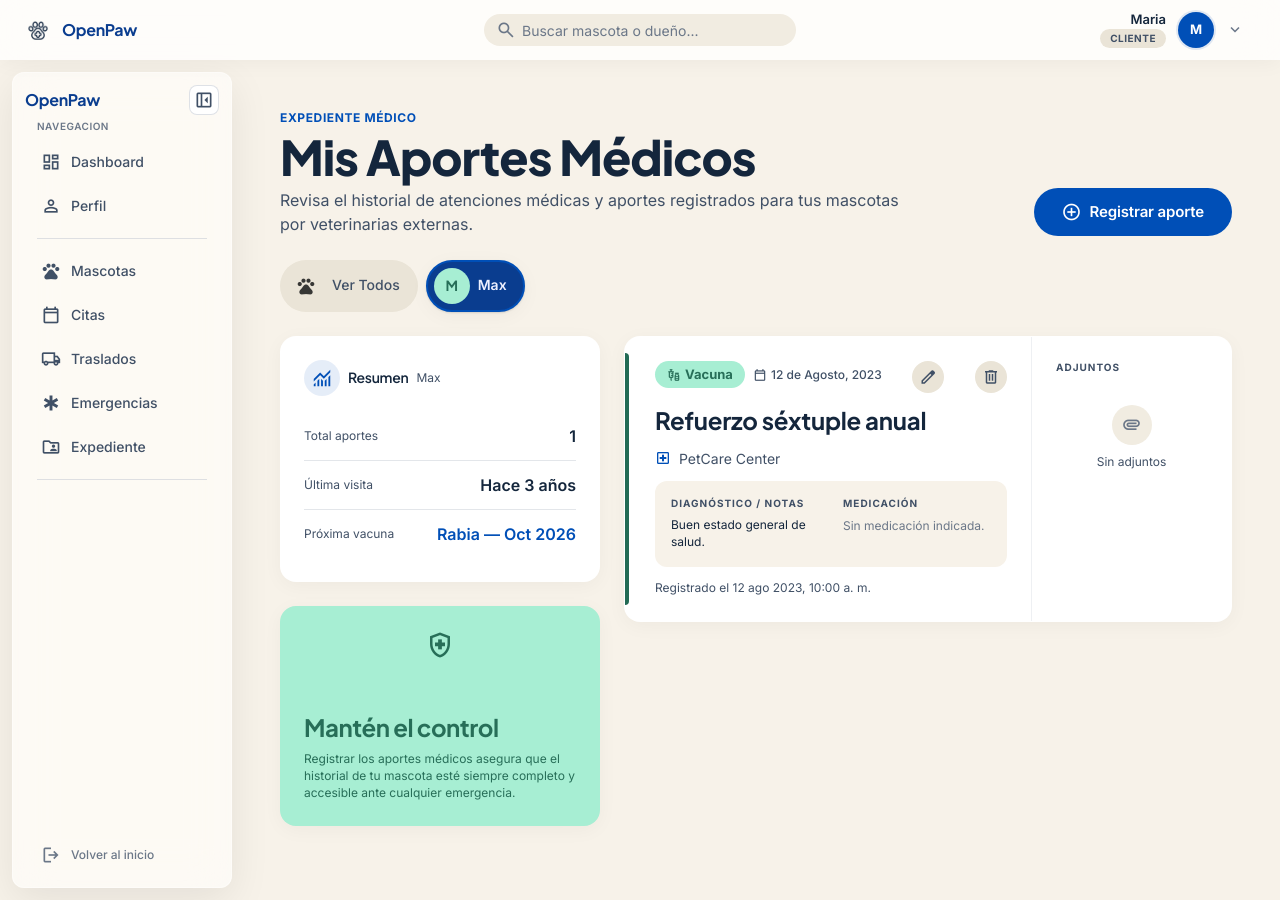
Scenario: AportesPage - rediseño Sprint 2 (T36) › editar: PUT 400 muestra el mensaje del servidor dentro del modal sin cerrarlo
Click the button named "Editar aporte de PetCare Center" at (928, 377), box [912, 361, 944, 393]
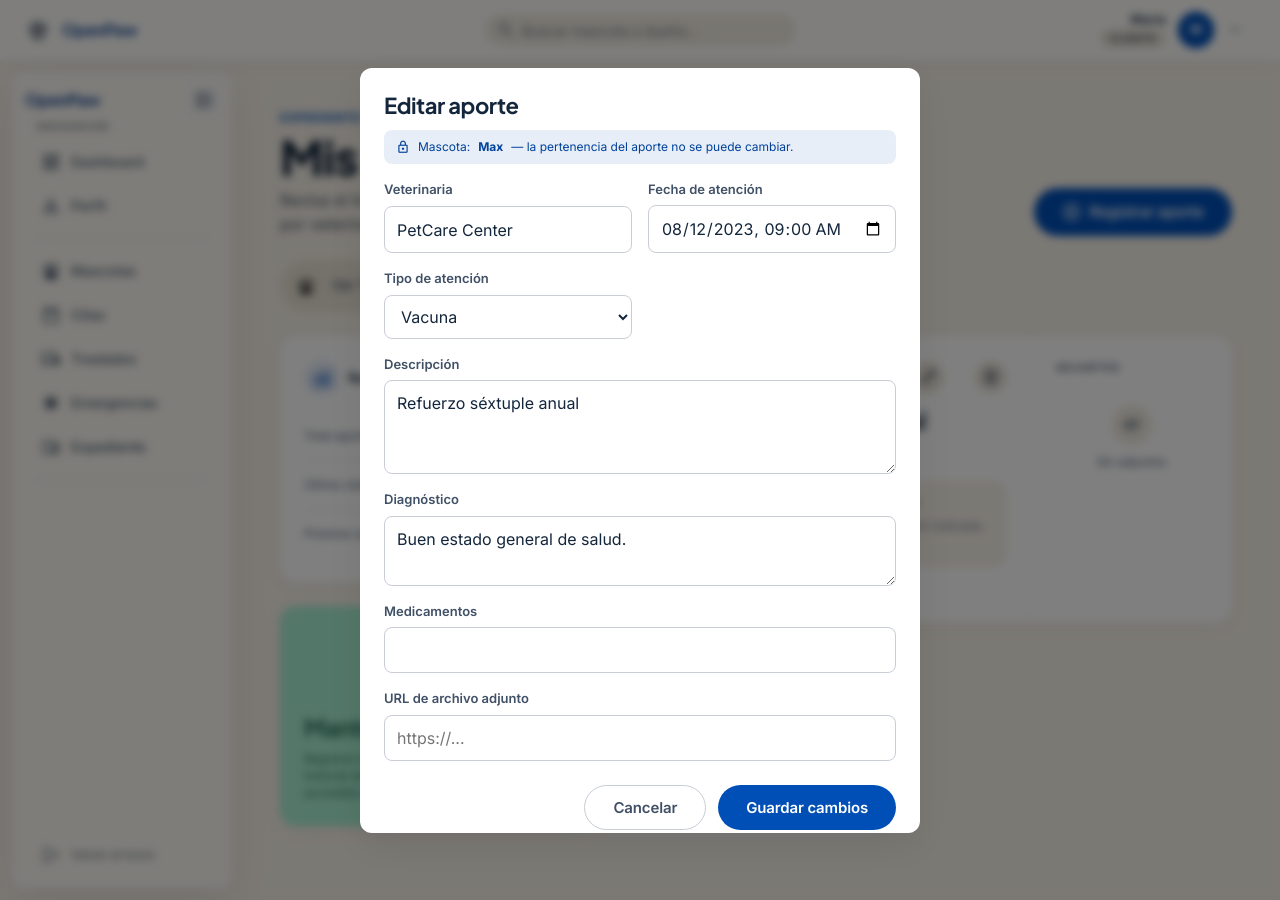
Expected: the heading "Editar aporte" is shown, [384, 90, 518, 118]
Expected: the field labelled "Veterinaria" holds "PetCare Center", [384, 206, 632, 253]
Expected: the text box labelled "Descripción" holds "Refuerzo séxtuple anual"
Replace the text in the text box labelled "Descripción" with "Intento fallido" at (640, 427), box [384, 380, 896, 474]
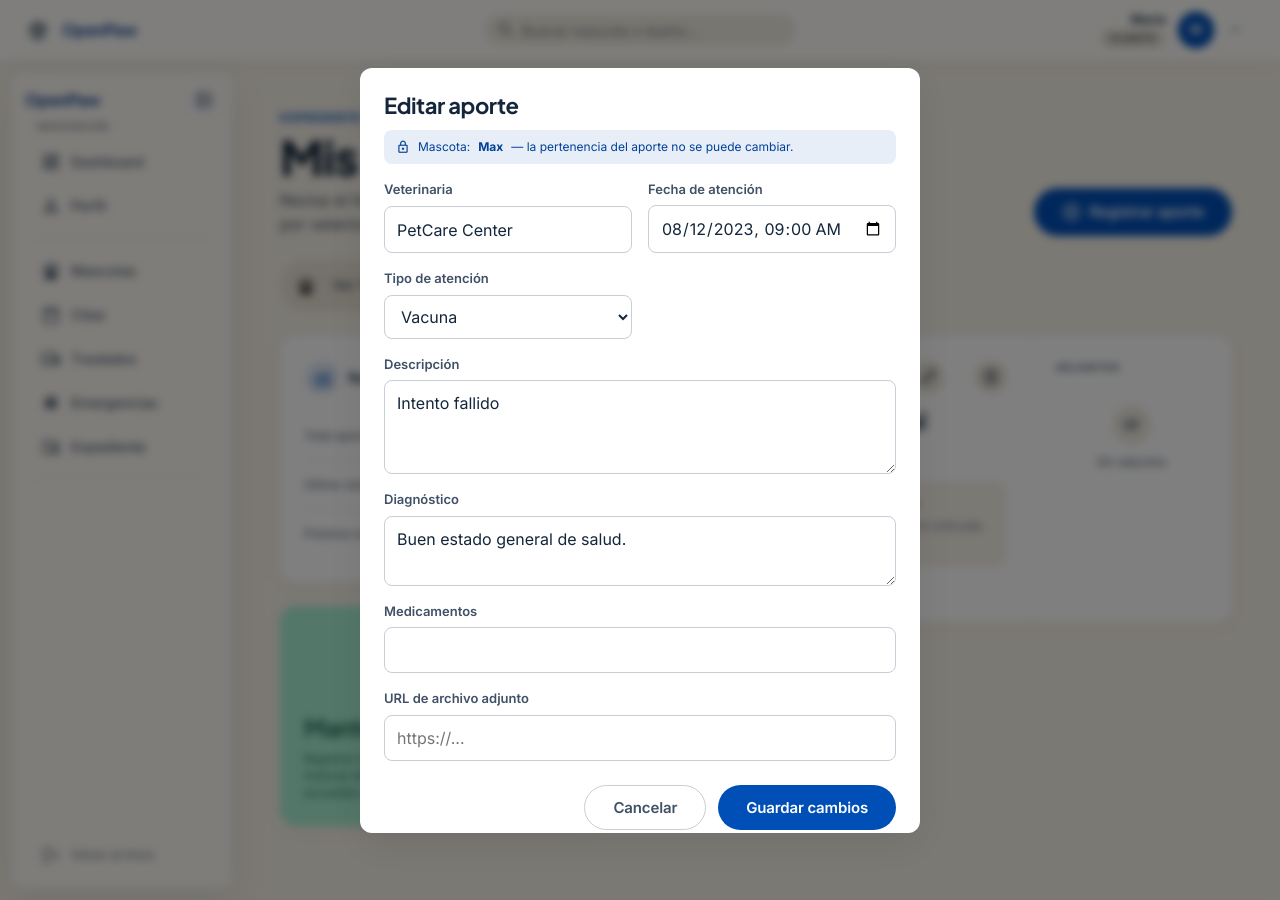
Click the button "Guardar cambios" at (807, 807), box [718, 785, 896, 830]
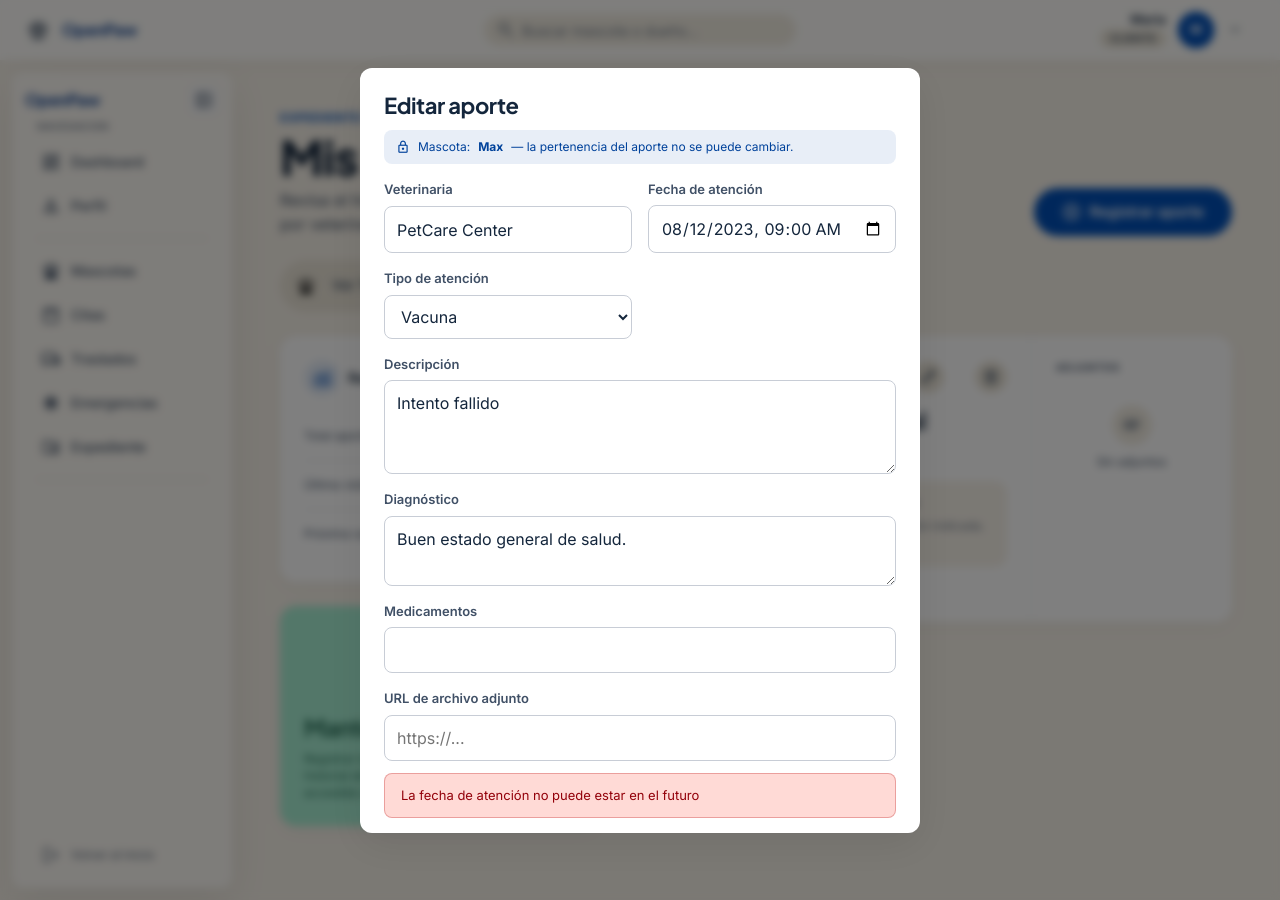
Expected: the heading "Editar aporte" is shown, [384, 90, 518, 118]
Expected: the message reads "La fecha de atención no puede estar en el futuro", [401, 787, 699, 803]
